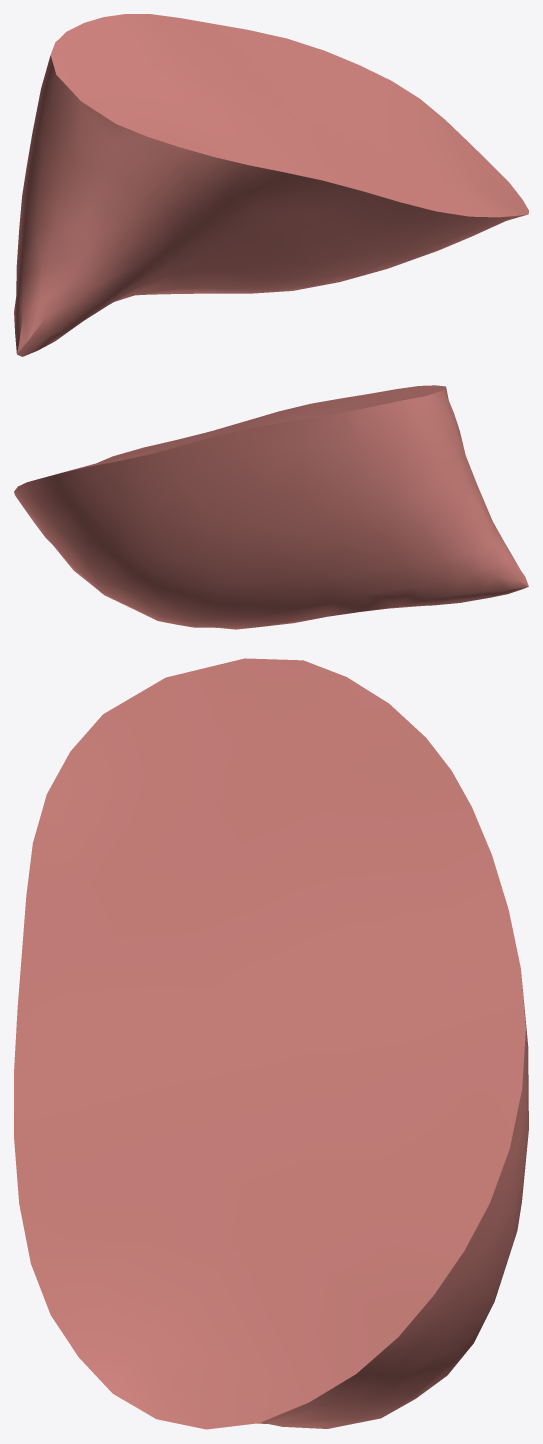
File: fma49311-n_mm4002m.glb
3 renders of one model, top to bottom at view 1: azimuth 30°, elevation 25°; view 2: azimuth 150°, elevation 25°; view 3: azimuth 270°, elevation 25°, orthographic. The views are drawn at different scales.
Parts seen in each view (by area): view 1: FMA49311-N_MM4002M; view 2: FMA49311-N_MM4002M; view 3: FMA49311-N_MM4002M.
Part boxes in pixels (x1,y1,x2,y2): FMA49311-N_MM4002M: [14, 14, 528, 356]; FMA49311-N_MM4002M: [14, 385, 528, 629]; FMA49311-N_MM4002M: [14, 658, 528, 1429].
Bounding box in the file's own units: 0.0308 × 0.0166 × 0.0149.
